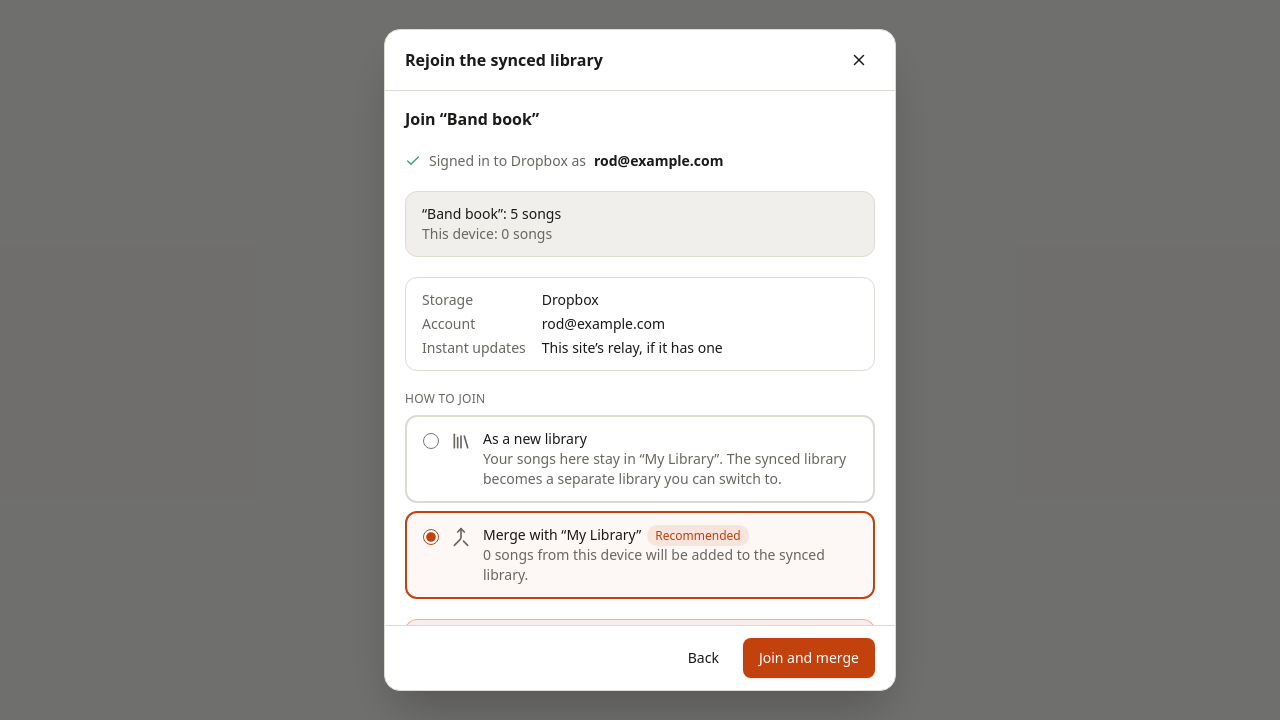
Test: joining with a drive code › rejoining leaves but keeps the sign-in the join needs
The width and height of the screenshot is (1280, 720).
Expected: the text "Signed in to Dropbox as rod@example.com" is shown, [405,151,724,170]
Click the button "Join and merge": point(809, 658) [743,638,875,678]
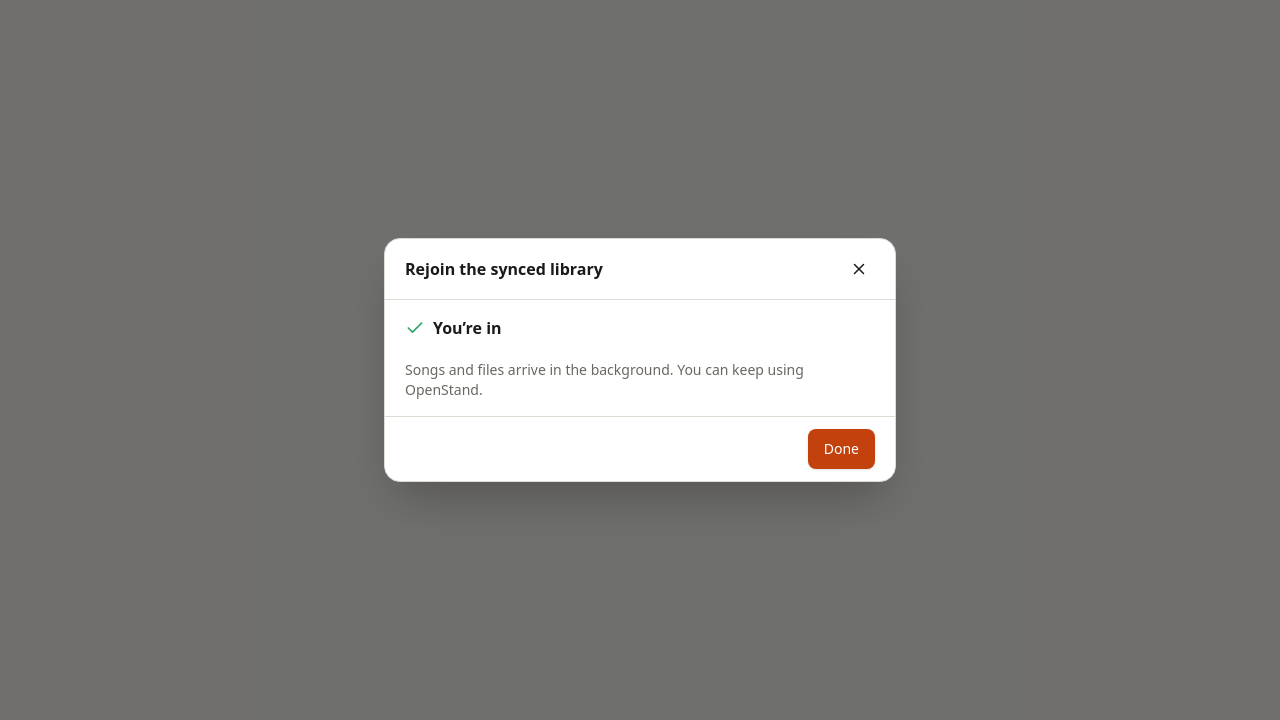
Expected: the heading "You’re in" is shown, [405,317,502,339]
